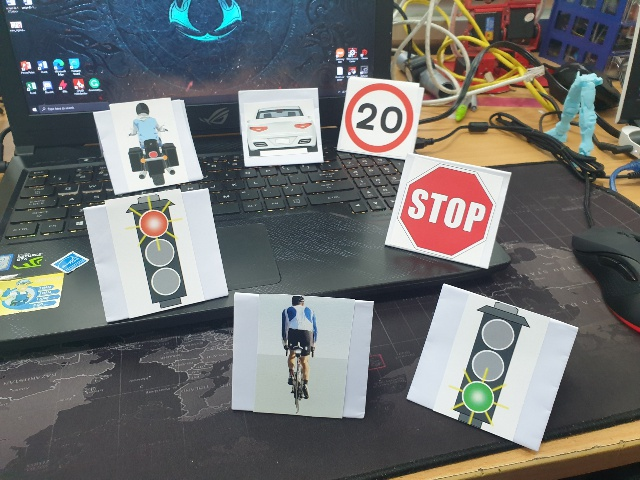Car: (243, 102, 318, 155)
Cyclist: (261, 295, 327, 413)
Green Light: (452, 296, 529, 436)
Limit 20: (344, 87, 413, 150)
Motorcycle: (123, 102, 183, 184)
Red Light: (125, 196, 196, 309)
Stop: (401, 162, 494, 257)
